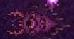crimera: (0, 1, 74, 39)
